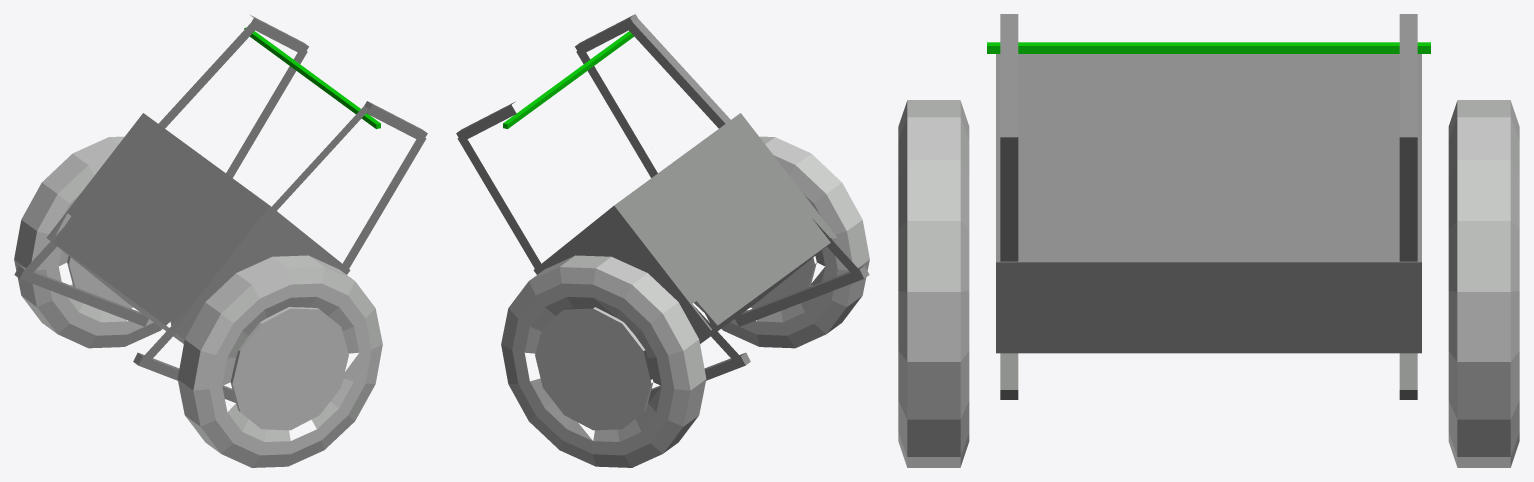
File: _patra-lower-limb-patra-rear-link.glb
3 views of the same model, side by side, from view 1: azimuth 30°, elevation 25°; view 2: azimuth 150°, elevation 25°; view 3: azimuth 270°, elevation 25° (orthographic). The views are drawn at different scales.
Size of the model in its own units: 0.6339 by 0.6577 by 0.7.
